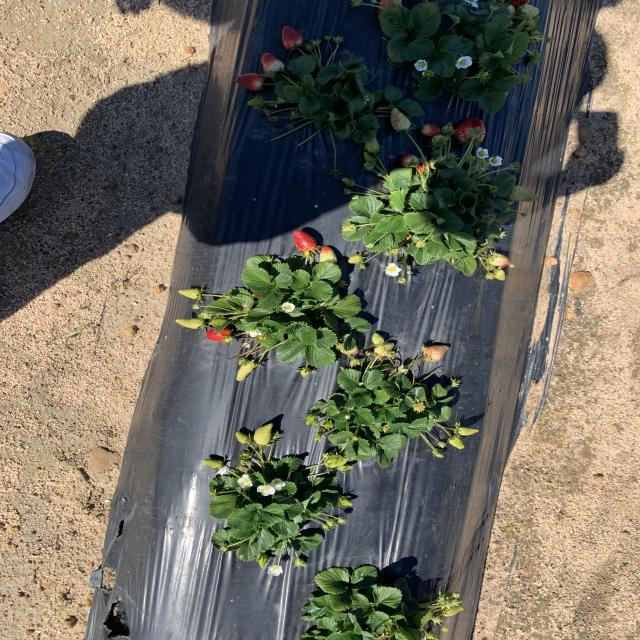unripe: (457, 118, 486, 144), (233, 73, 268, 91), (292, 230, 317, 252), (280, 26, 304, 48), (261, 53, 283, 74), (205, 327, 234, 342), (401, 154, 420, 167), (416, 164, 432, 177), (422, 125, 441, 135), (503, 0, 533, 6)
